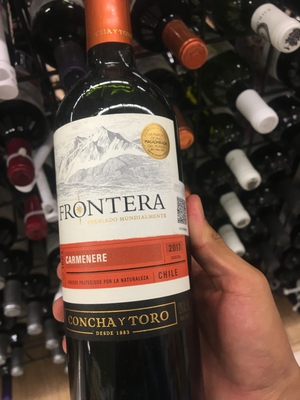frontera carmenere: (49, 22, 207, 394)
